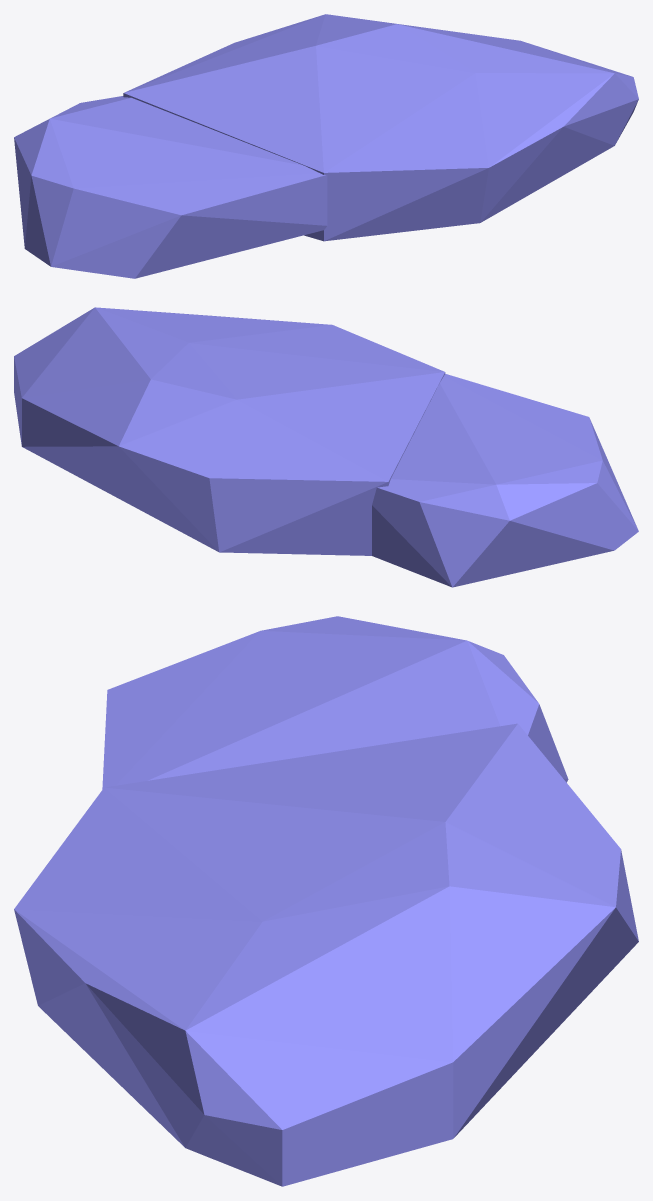
File: Plate_01_Collider_01.FBX
3 renders of one model, top to bottom at view 1: azimuth 30°, elevation 25°; view 2: azimuth 150°, elevation 25°; view 3: azimuth 270°, elevation 25°, orthographic. The views are drawn at different scales.
Visible parts, largest first — view 1: COLLIDER1, COLLIDER2; view 2: COLLIDER1, COLLIDER2; view 3: COLLIDER1, COLLIDER2.
Part boxes in pixels (<box>): COLLIDER1: <box>123,14,638,241</box>; COLLIDER2: <box>14,96,327,278</box>; COLLIDER1: <box>14,307,445,555</box>; COLLIDER2: <box>372,374,638,587</box>; COLLIDER1: <box>14,723,638,1186</box>; COLLIDER2: <box>102,616,568,789</box>.
Size of the model in its own units: 280 by 50.47 by 157.
